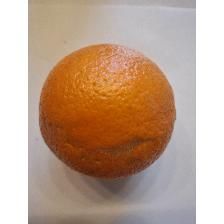Orange: (36, 39, 180, 181)
